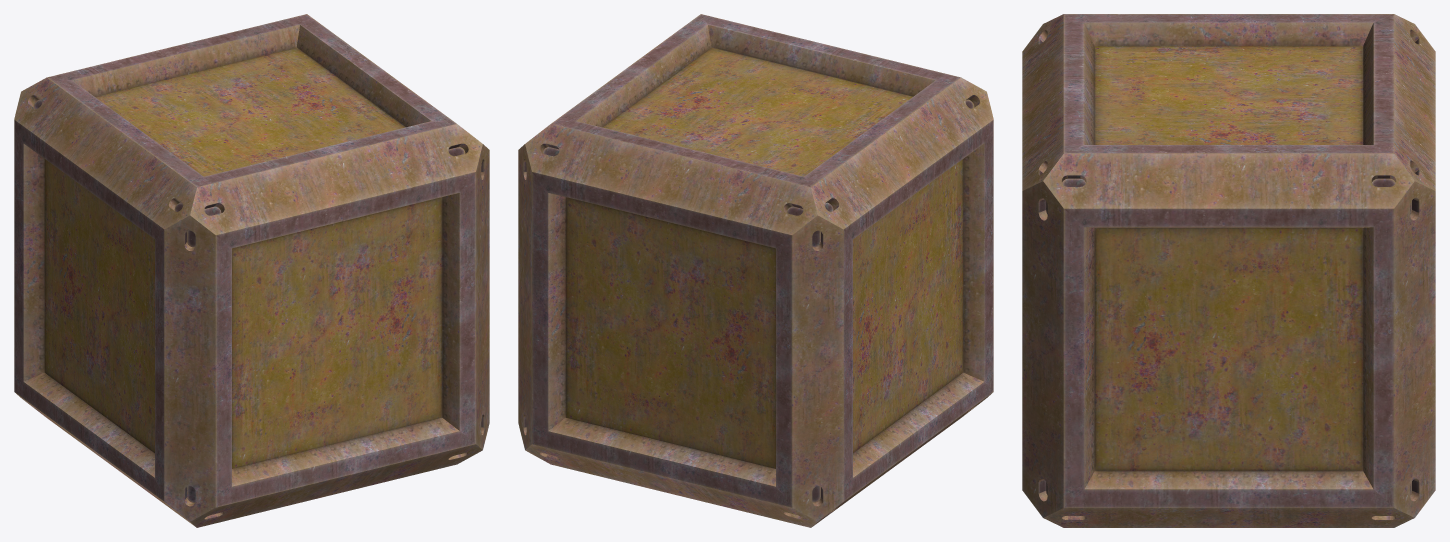
File: cargocube.obj
3 renders of one model, left to right at view 1: azimuth 30°, elevation 25°; view 2: azimuth 150°, elevation 25°; view 3: azimuth 270°, elevation 25°, orthographic. The views are drawn at different scales.
Visible parts, largest first — view 1: SketchUp.008_ID71; view 2: SketchUp.008_ID71; view 3: SketchUp.008_ID71.
Boxes of the visible parts, <box> form: SketchUp.008_ID71: <box>14,14,489,527</box>; SketchUp.008_ID71: <box>518,14,993,527</box>; SketchUp.008_ID71: <box>1022,14,1435,527</box>.
Bounding box in the file's own units: 78.74 × 78.74 × 78.74.
